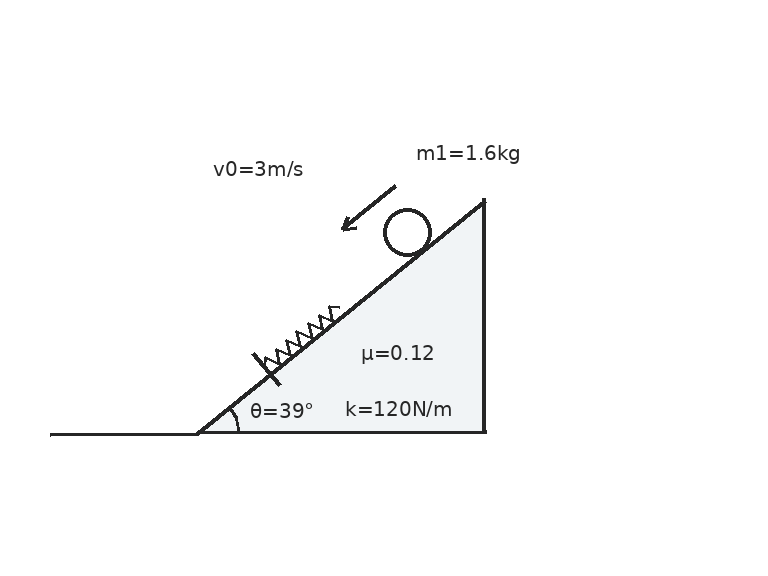ball: (381, 206, 433, 258)
ramp: (196, 198, 487, 434)
spring: (262, 303, 341, 369)
